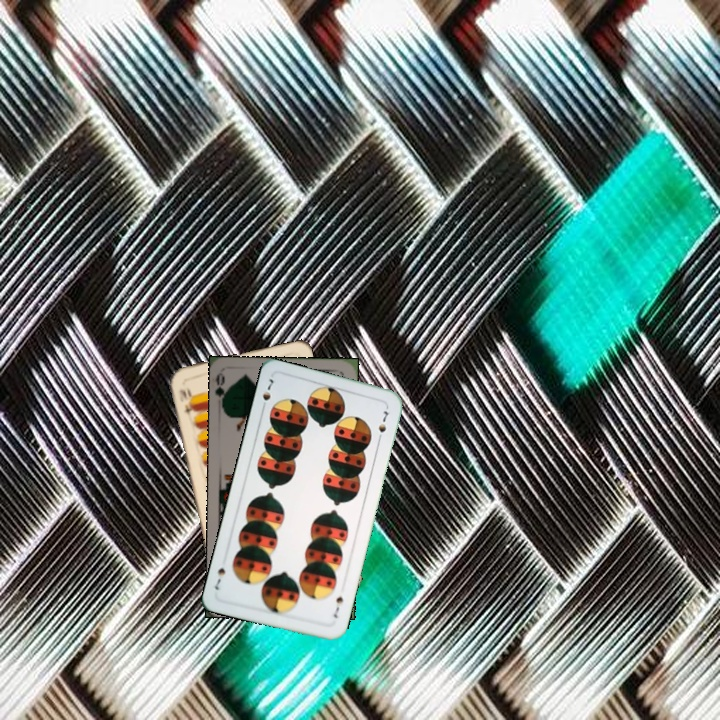E10: (175, 385, 197, 418)
GO: (212, 372, 232, 412)
S7: (258, 375, 276, 413), (329, 592, 346, 621)
